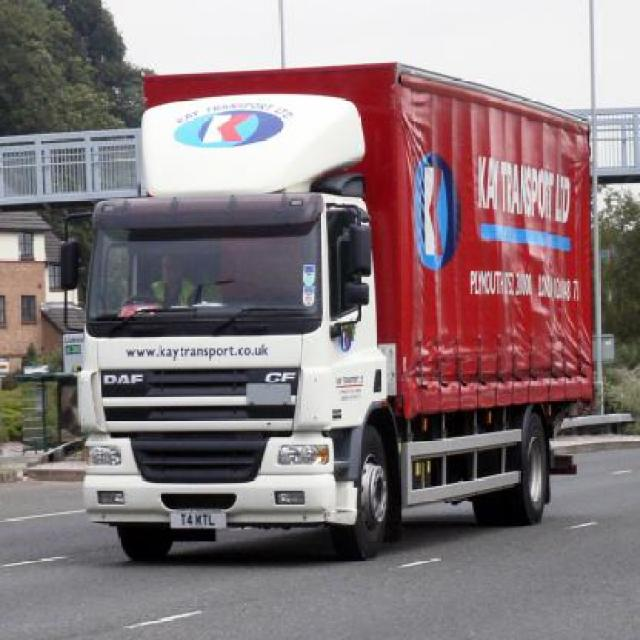bicycle: (60, 65, 582, 586)
